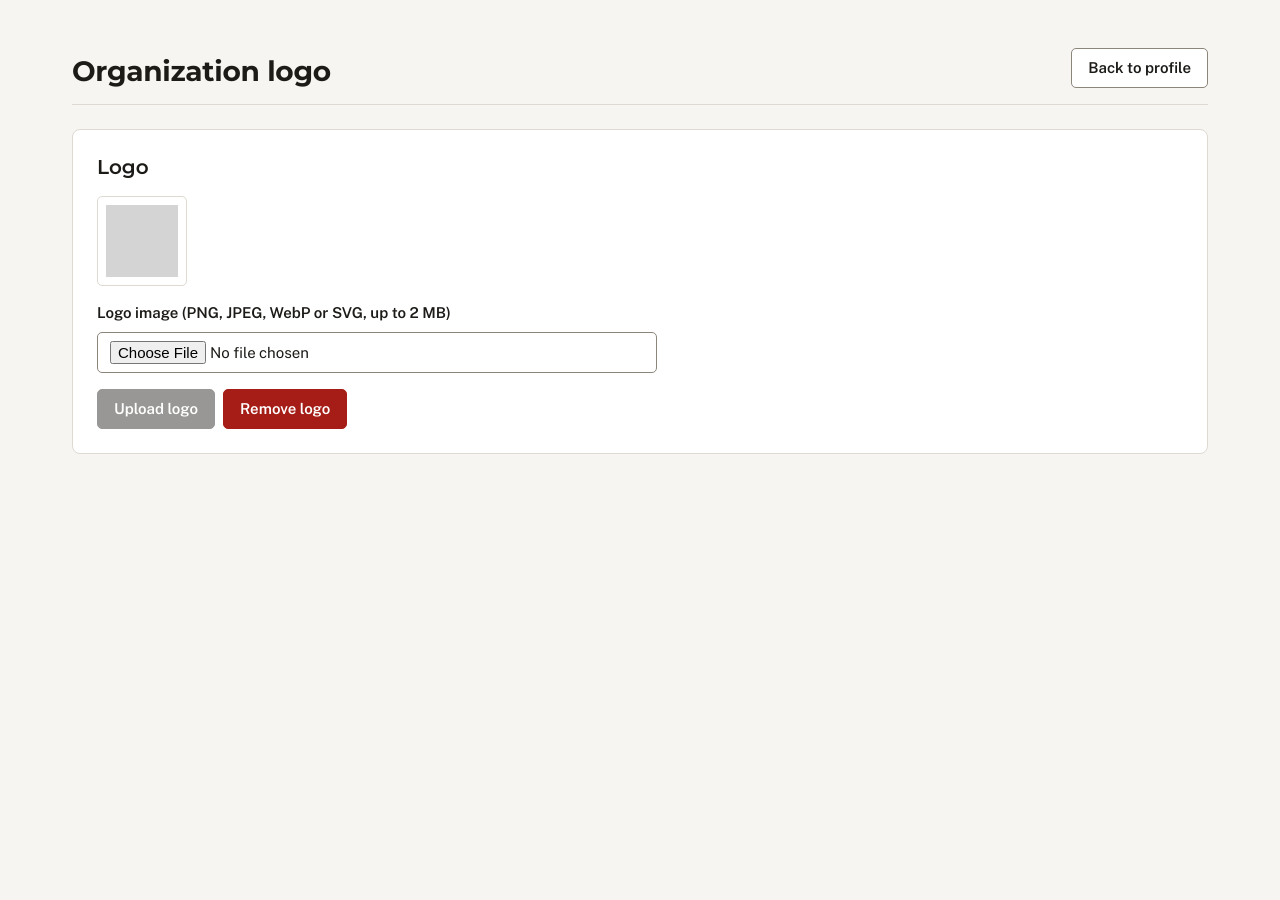
Test: OrganizationLogoPage › confirms a removal and moves focus to the logo heading, without saving the profile
Click the button with test id "organization-logo-remove" at (285, 409), box left=223, top=389, right=347, bottom=429
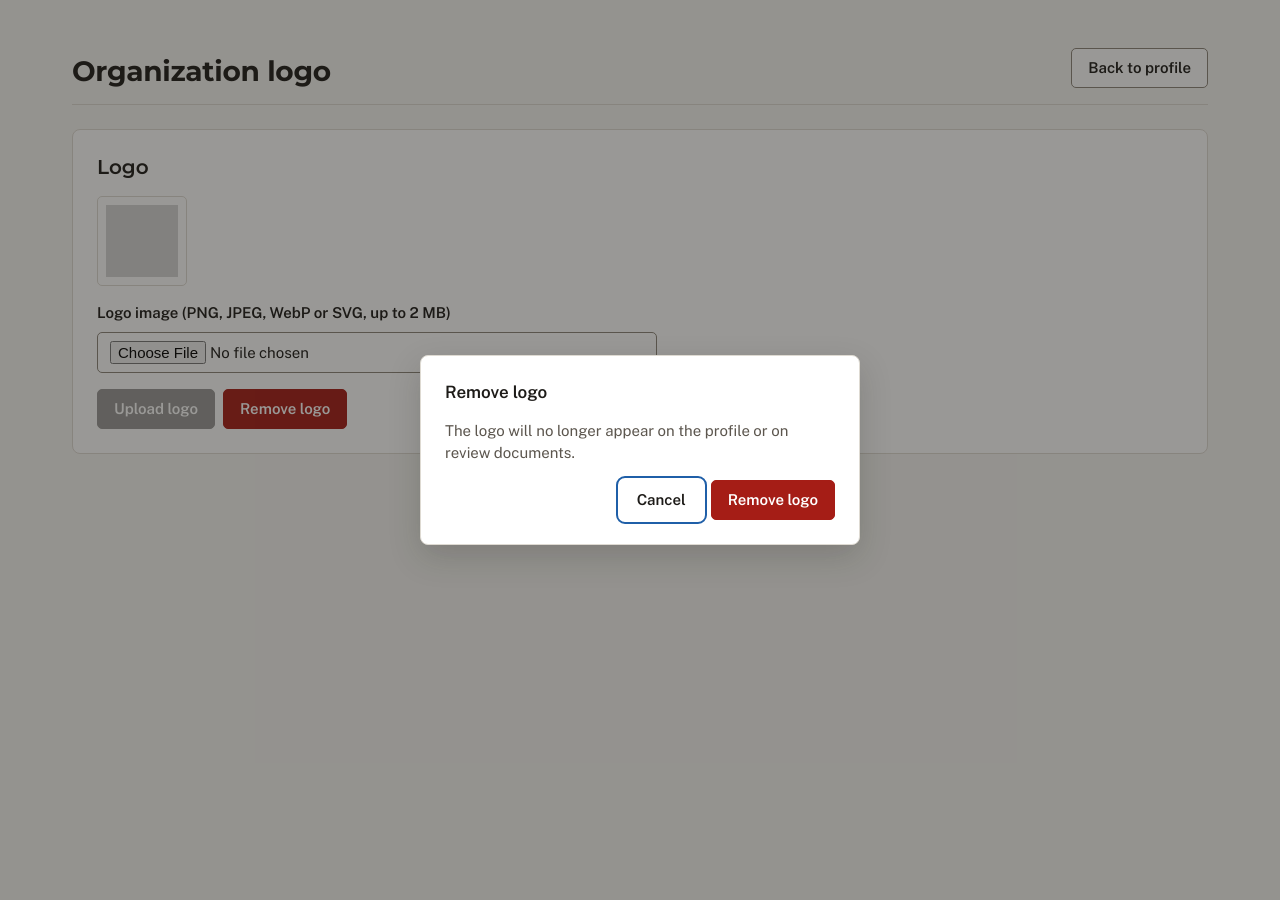
Click the button with test id "confirm-dialog-confirm" at (773, 500), box left=711, top=480, right=835, bottom=520
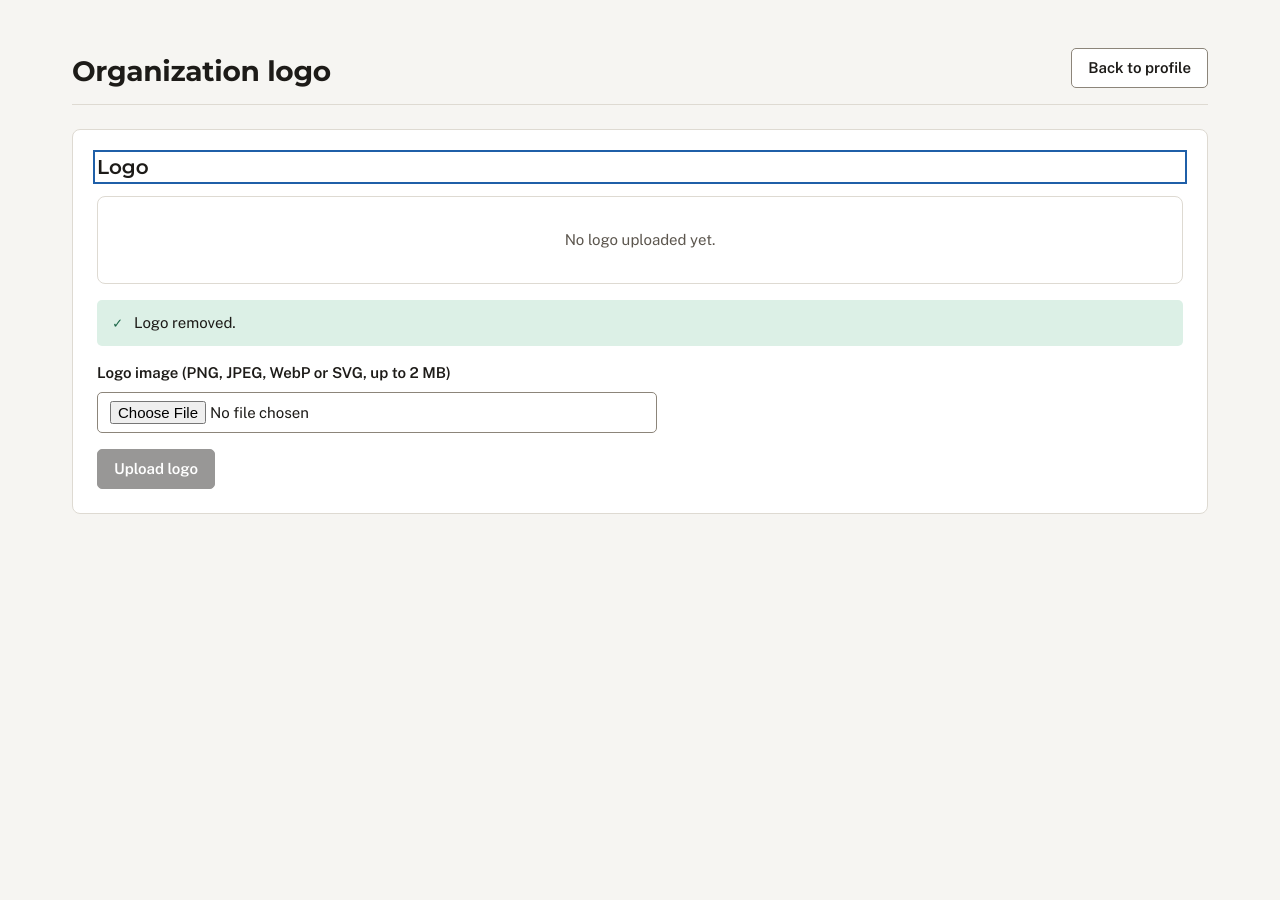
Result: the element with test id "organization-logo-success" shows "Logo removed." at left=134, top=314, right=236, bottom=331
Result: the text with test id "organization-logo-empty" reads "No logo uploaded yet." at left=565, top=231, right=715, bottom=248
Result: the button with test id "organization-logo-remove" is gone
